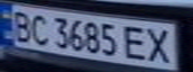3: (48, 15, 72, 49)
5: (100, 20, 124, 57)
6: (66, 17, 84, 53)
8: (81, 19, 103, 55)
B: (6, 8, 36, 43)
C: (24, 11, 54, 46)
E: (121, 24, 151, 62)
X: (142, 25, 178, 64)
